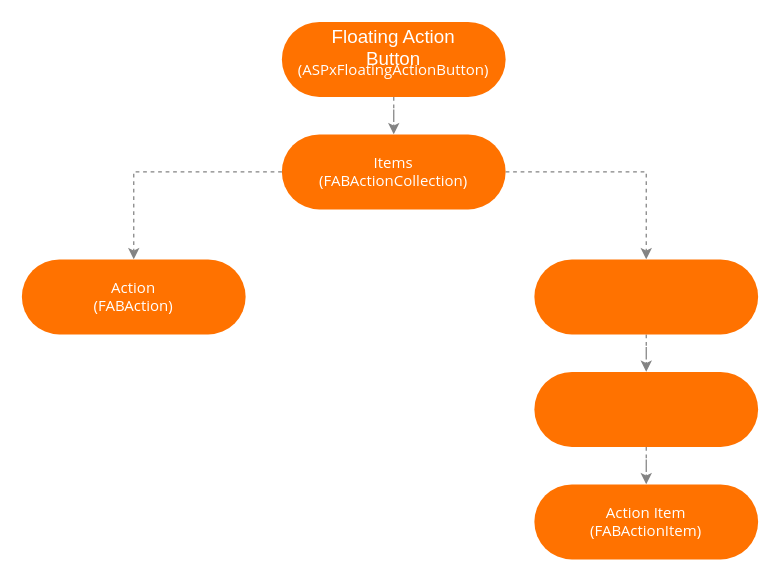
The diagram is 779 pixels wide and 580 high, and some of its shapes have lost their labels. Here are the shapes that lost their labels. From the top down, the centre of each, then its label:
At [646,296]: "Action Group (FABActionGroup)".
At [646,408]: "Items (FABActionItemCollection)".
